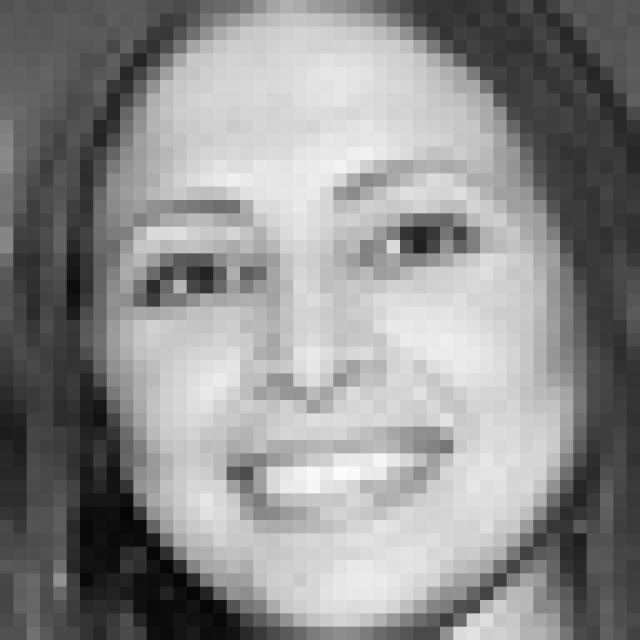happy: (101, 160, 521, 537)
